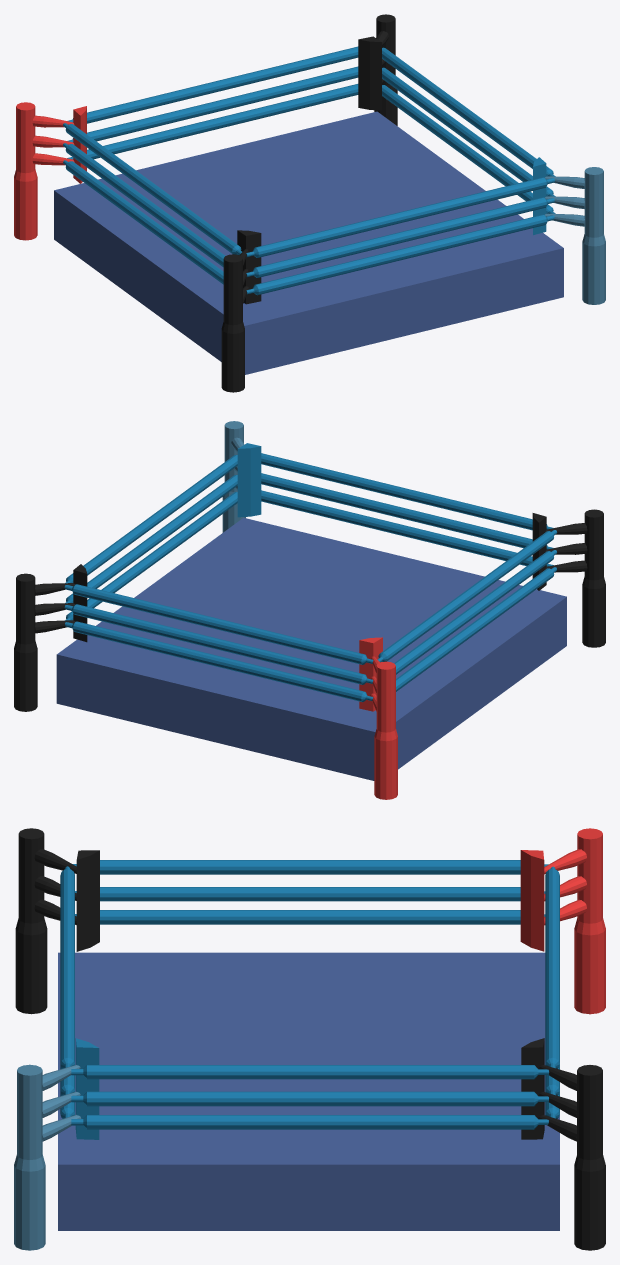
The model's file is RING.fbx.
3 views of the same model, one above another, from view 1: azimuth 30°, elevation 25°; view 2: azimuth 150°, elevation 25°; view 3: azimuth 270°, elevation 25° (orthographic). The views are drawn at different scales.
Visible parts, largest first — view 1: Cube; view 2: Cube; view 3: Cube.
Part boxes in pixels (bbox=[...]): Cube: bbox=[14, 14, 605, 392]; Cube: bbox=[14, 421, 605, 799]; Cube: bbox=[14, 828, 605, 1250].
Size of the model in its own units: 648 by 214 by 649.
